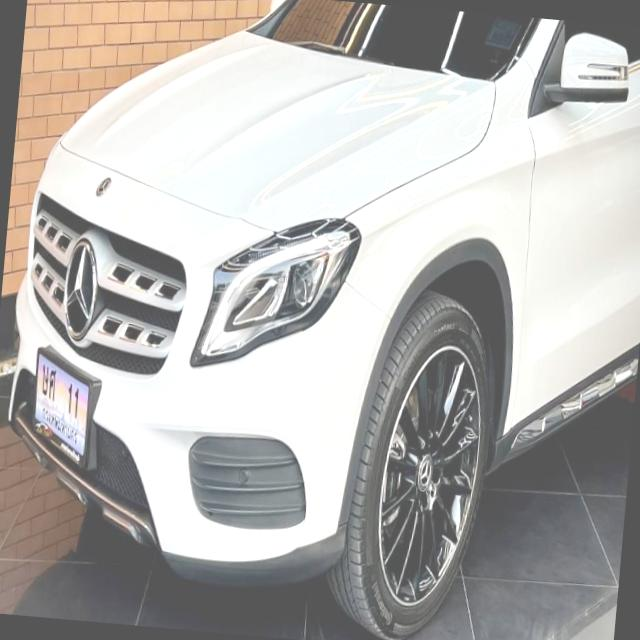license_plate: (23, 341, 102, 482)
